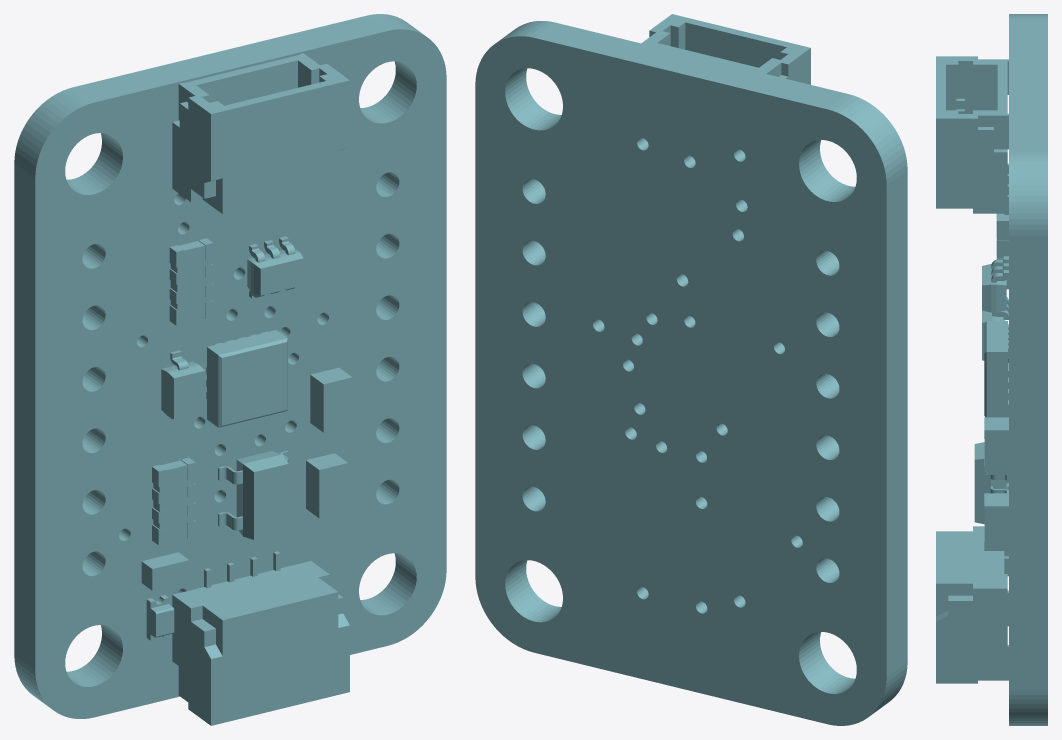
The model's file is adafruit-lis3dh-2809.glb.
3 renders of one model, left to right at view 1: azimuth 30°, elevation 25°; view 2: azimuth 150°, elevation 25°; view 3: azimuth 270°, elevation 25°, orthographic. The views are drawn at different scales.
Bounding box in the file's own units: 0.0178 × 0.0254 × 0.00453.
